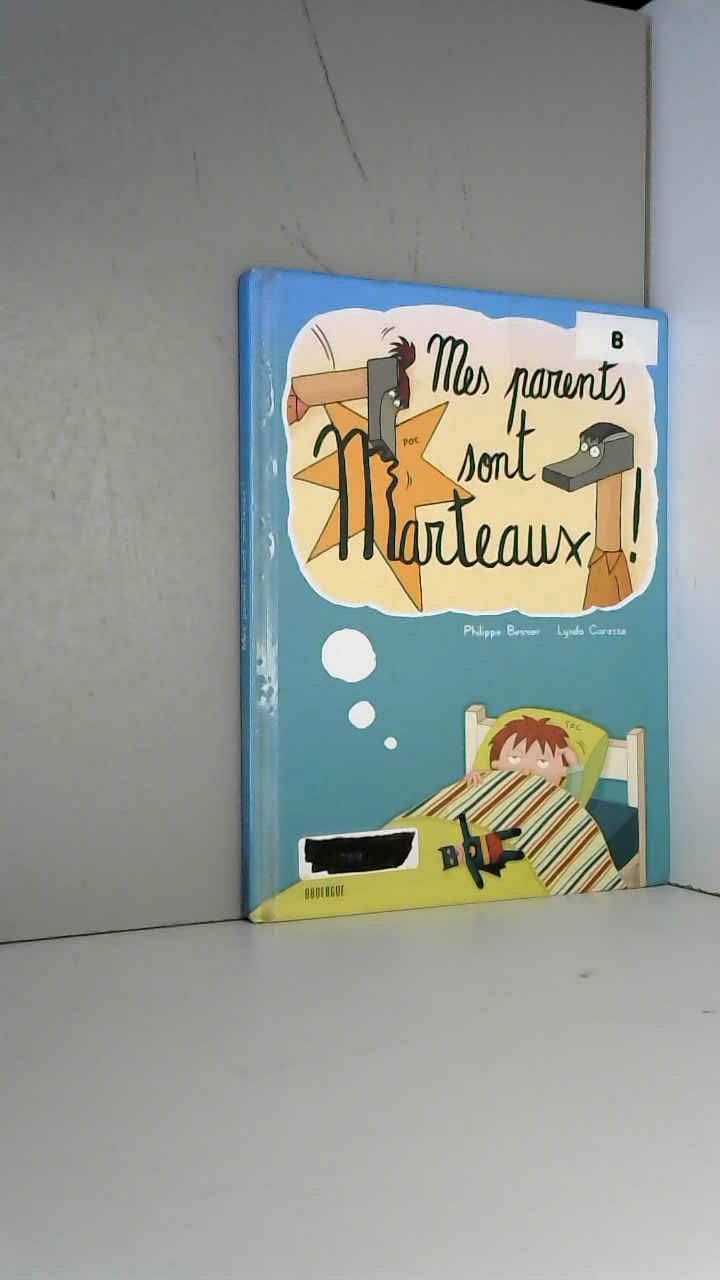book: (210, 240, 720, 941)
